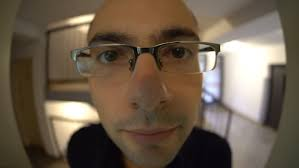white_male: (92, 21, 209, 142)
